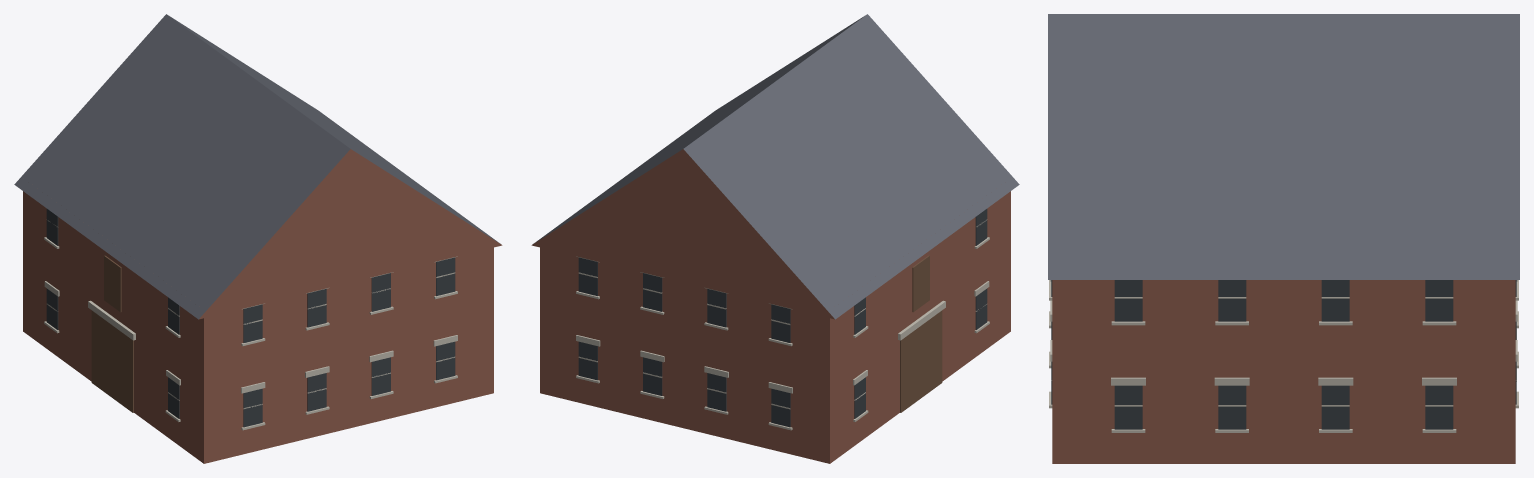
Rendered from house_2106_calumet_coach_house__draft_1904.glb.
3 renders of one model, left to right at view 1: azimuth 30°, elevation 25°; view 2: azimuth 150°, elevation 25°; view 3: azimuth 270°, elevation 25°, orthographic. The views are drawn at different scales.
Visible parts, largest first — view 1: house_2106_calumet_coach_house__draft_1904; view 2: house_2106_calumet_coach_house__draft_1904; view 3: house_2106_calumet_coach_house__draft_1904.
Part boxes in pixels (x1=…): house_2106_calumet_coach_house__draft_1904: x1=14, y1=14, x2=502, y2=463; house_2106_calumet_coach_house__draft_1904: x1=531, y1=14, x2=1019, y2=463; house_2106_calumet_coach_house__draft_1904: x1=1048, y1=14, x2=1519, y2=463.
Bounding box in the file's own units: 12.85 × 11.34 × 13.49.
